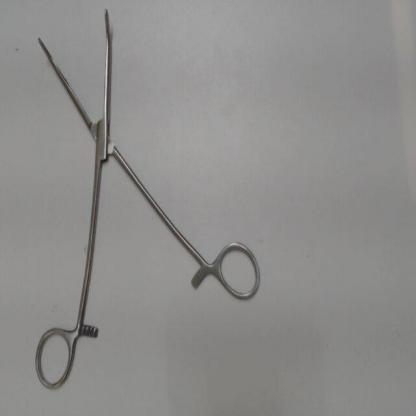Lahey Forceps: (31, 5, 264, 394)
